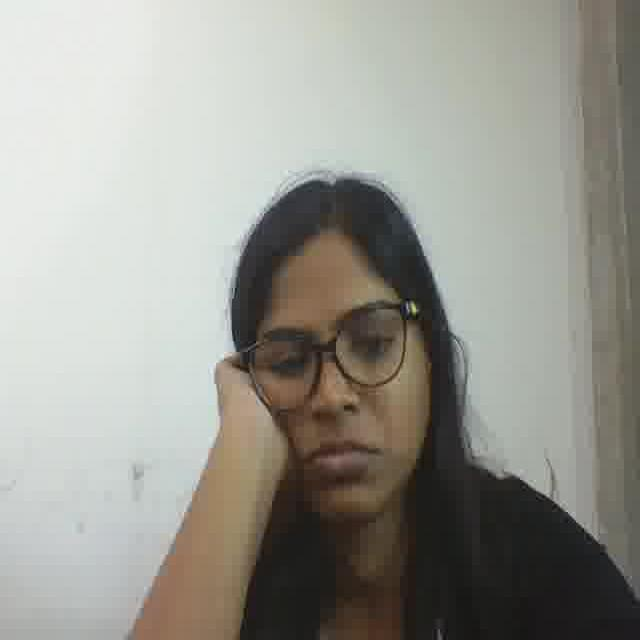Boredom: (249, 236, 426, 531)
